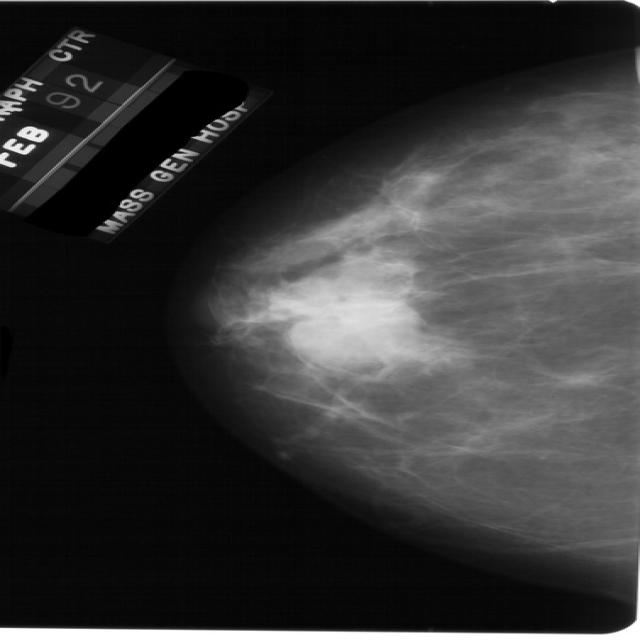tumour: (286, 302, 410, 358)
